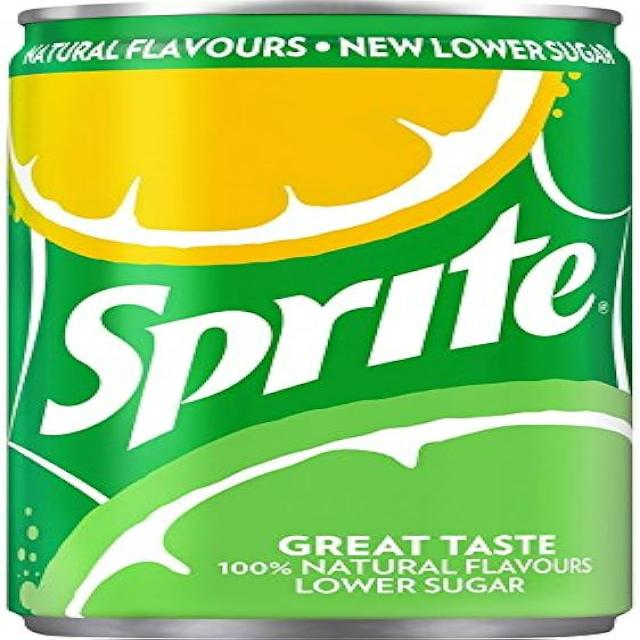sprite: (9, 5, 639, 640)
